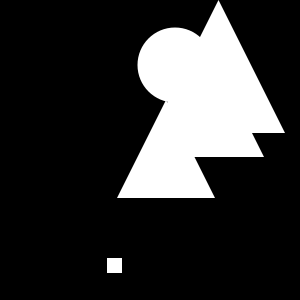circle: (107, 258, 122, 273)
rectangle: (138, 28, 212, 102)
triangle: (152, 0, 285, 133), (158, 51, 264, 157), (117, 100, 215, 198)
